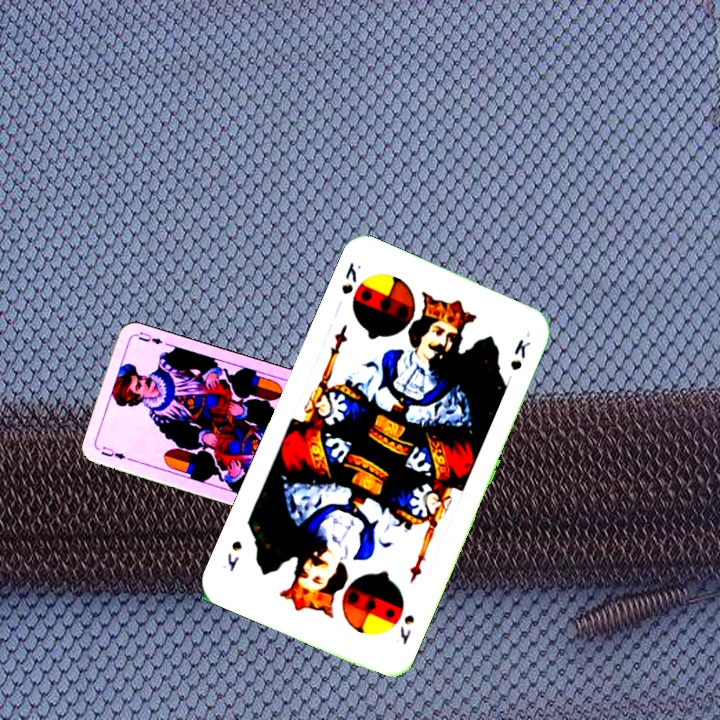EU: (97, 443, 128, 462)
SK: (337, 258, 364, 297), (396, 610, 417, 648)
